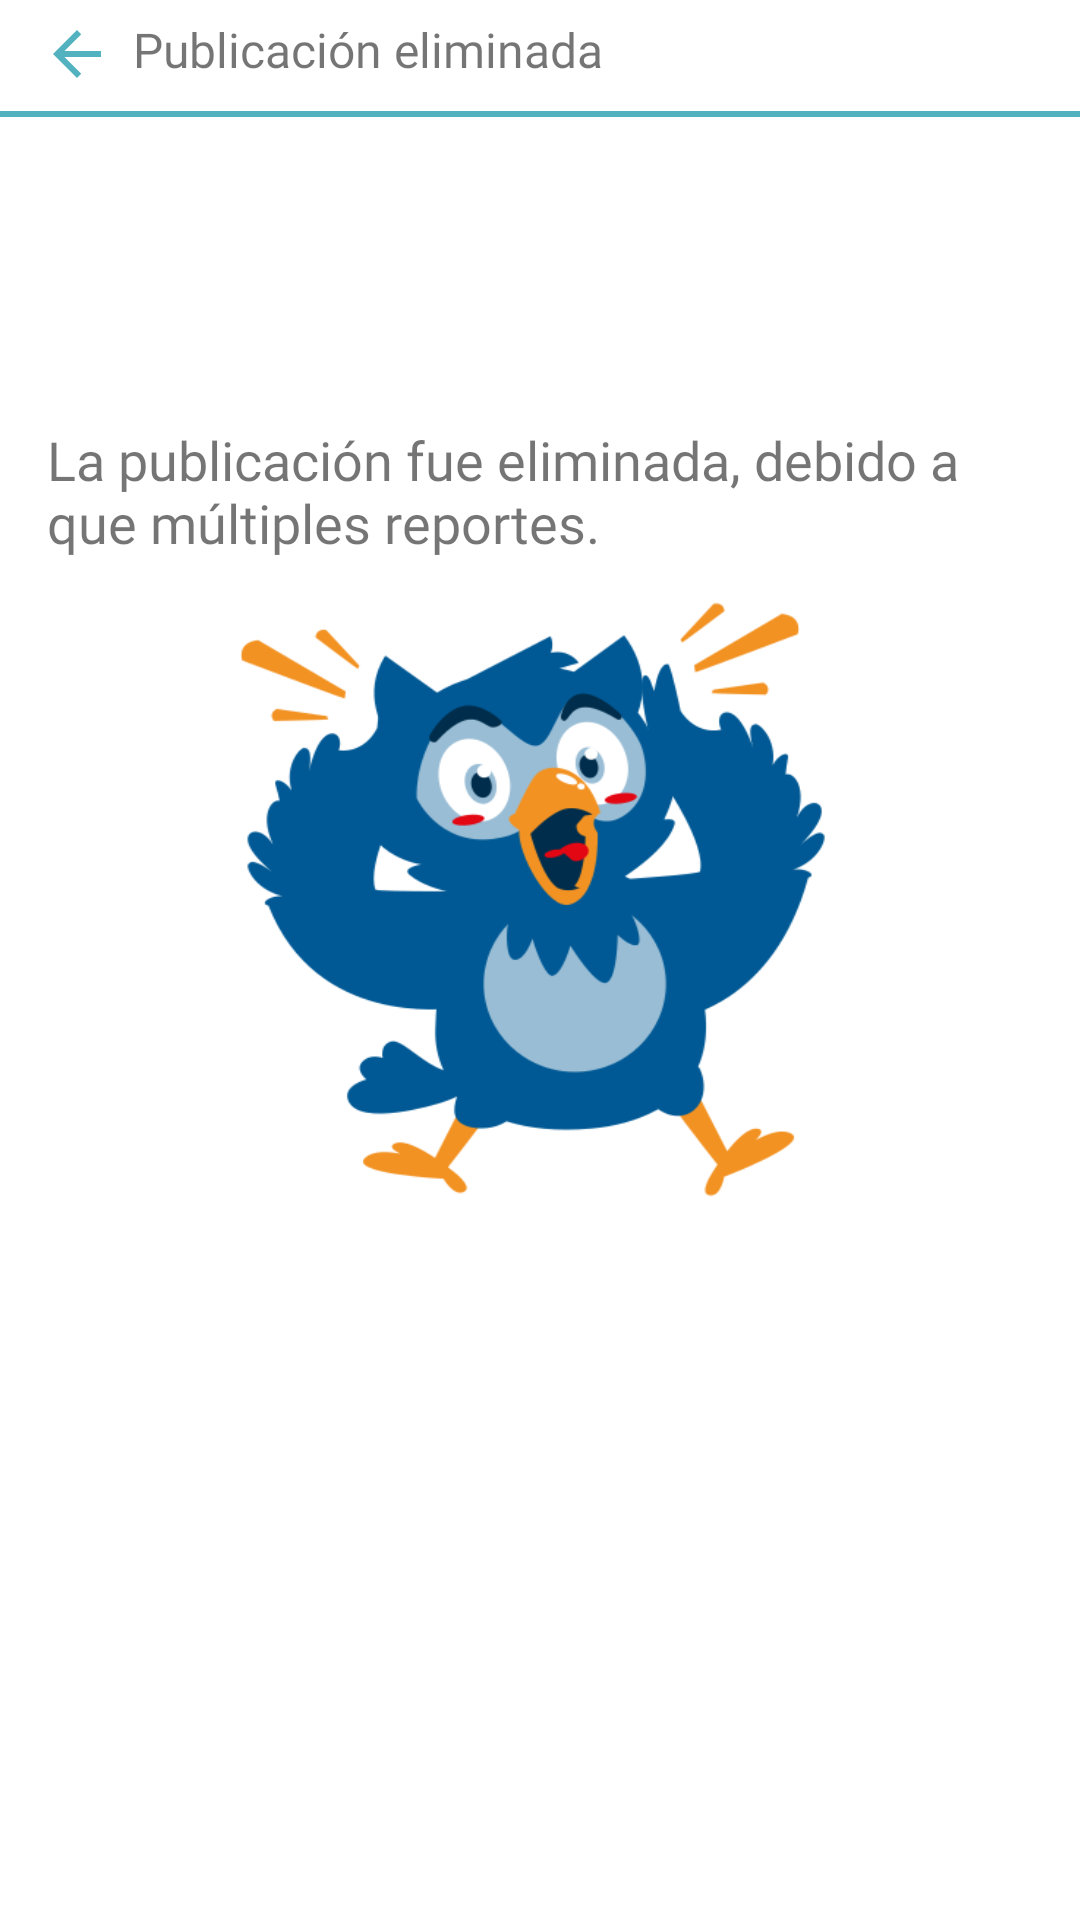

Icons on this 1080x1920 Android screen, each with its box as (x1, y1, x2, y2):
regresar: (53, 30, 101, 78)
